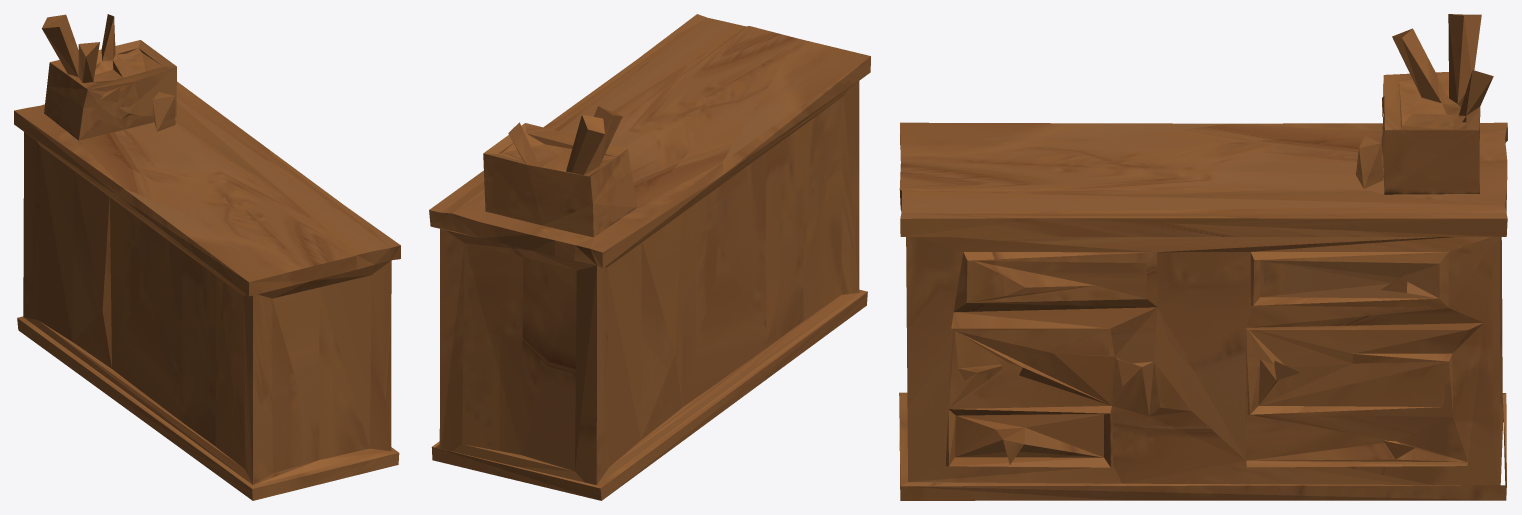
3 views of the same model, side by side, from view 1: azimuth 30°, elevation 25°; view 2: azimuth 150°, elevation 25°; view 3: azimuth 270°, elevation 25° (orthographic). The views are drawn at different scales.
Visible parts, largest first — view 1: texture_pbr_v128.001; view 2: texture_pbr_v128.001; view 3: texture_pbr_v128.001.
Boxes of the visible parts, box(x1,y1,x2,y2) form: texture_pbr_v128.001: box(14, 14, 400, 500); texture_pbr_v128.001: box(429, 14, 870, 500); texture_pbr_v128.001: box(899, 14, 1507, 500).
Bounding box in the file's own units: 0.3557 × 0.696 × 0.9292.
